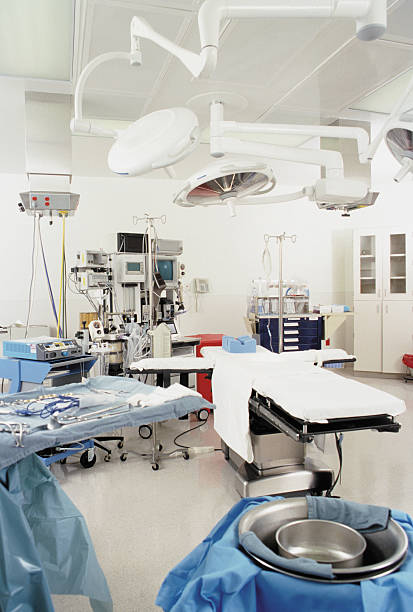cabinet: (350, 230, 411, 378)
electrosurgical_unit: (2, 335, 86, 363)
iv_pole: (134, 209, 170, 345), (261, 231, 300, 351)
medical_drawer: (251, 311, 332, 350)
operating_bed: (200, 337, 404, 499)
surgical_instrument: (1, 391, 136, 448)
surgical_light: (106, 106, 203, 180), (172, 162, 279, 219)
telephone: (190, 271, 217, 305)
utility_cart: (1, 359, 216, 612)
